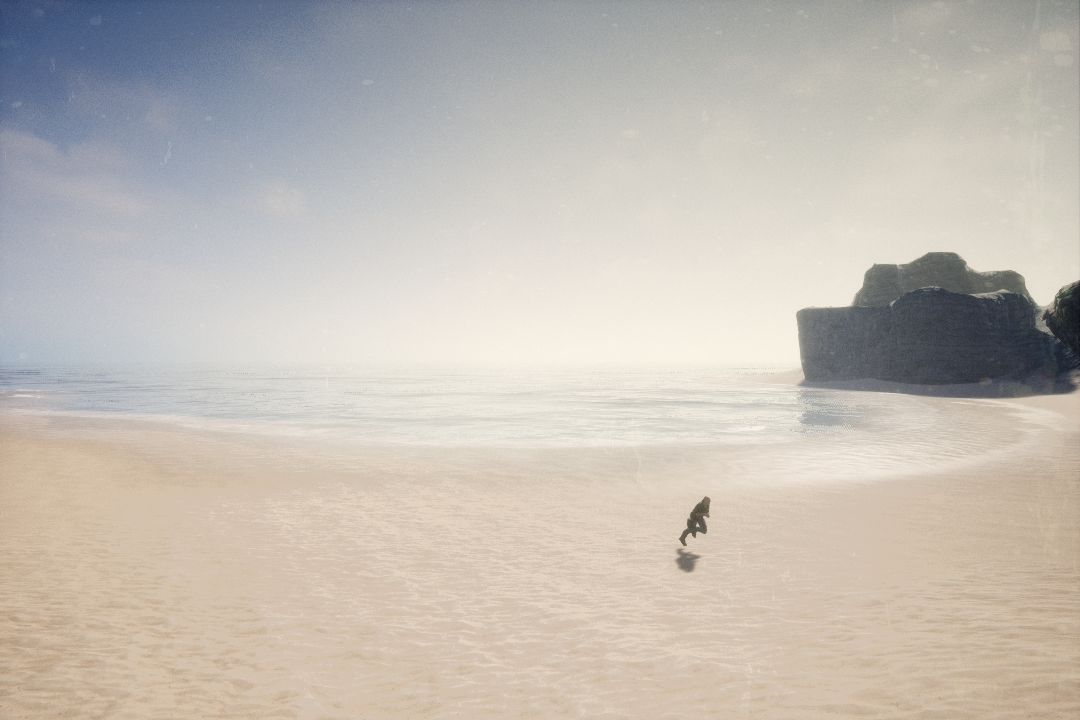person: (677, 493, 715, 549)
